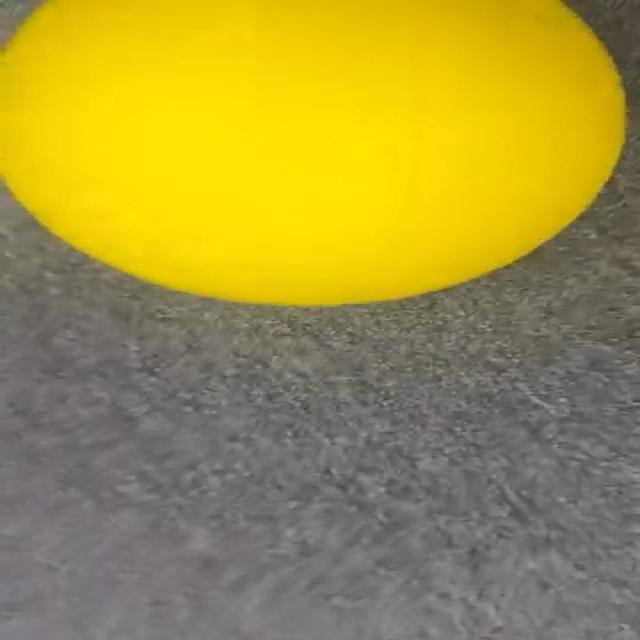Fuels: (2, 0, 622, 304)
